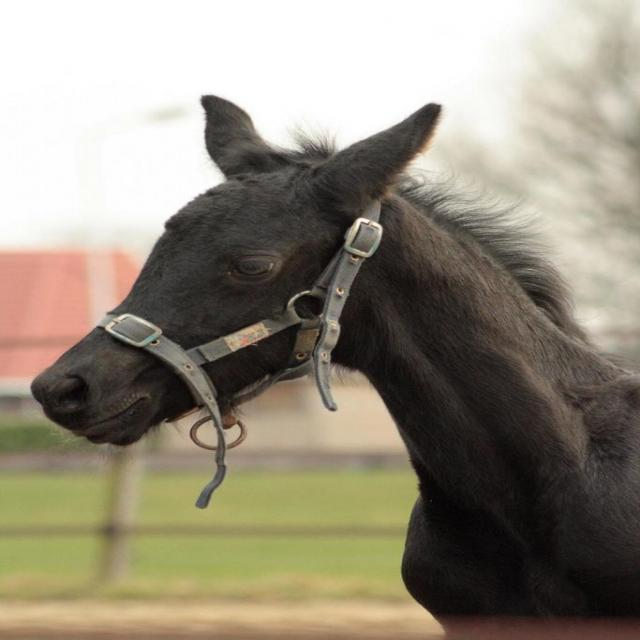Horse: (29, 94, 639, 638)
